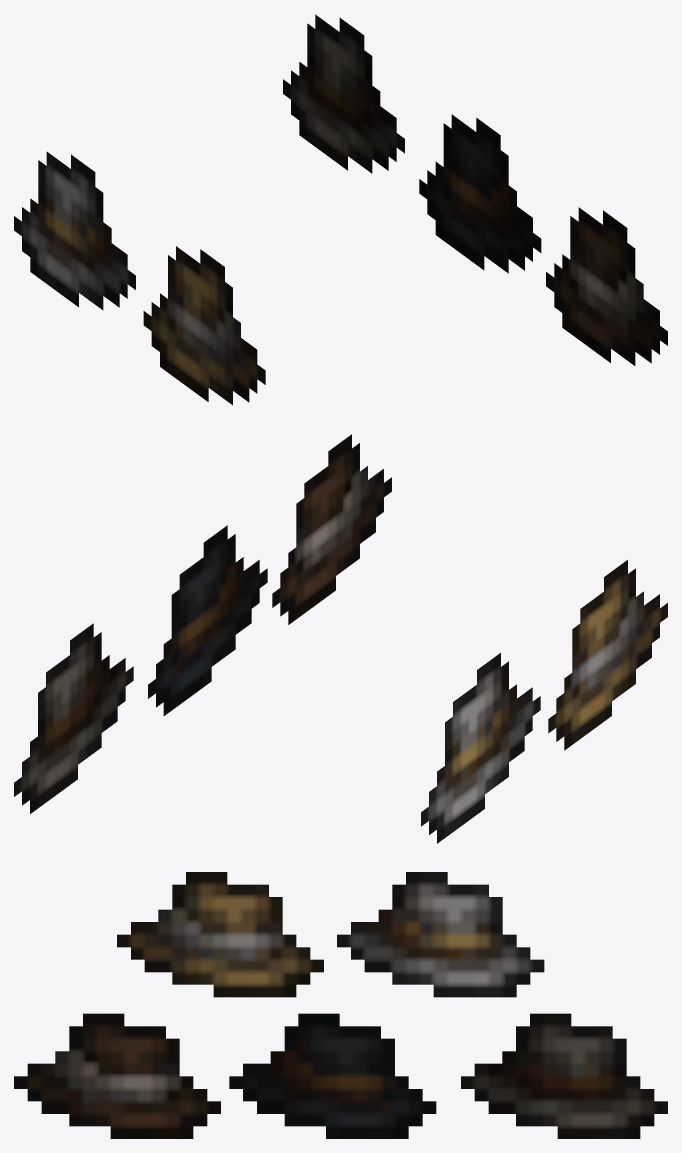
The model's file is EnvObjMD_Hat_A_Black.FBX.
3 renders of one model, top to bottom at view 1: azimuth 30°, elevation 25°; view 2: azimuth 150°, elevation 25°; view 3: azimuth 270°, elevation 25°, orthographic. The views are drawn at different scales.
Visible parts, largest first — view 1: EnvObjMD_Hat_A_Black, EnvObjMD_Hat_A_Gray, EnvObjMD_Hat_A_White, EnvObjMD_Hat_A_Brown, EnvObjMD_Hat_A_Yellow; view 2: EnvObjMD_Hat_A_Black, EnvObjMD_Hat_A_Brown, EnvObjMD_Hat_A_Gray, EnvObjMD_Hat_A_Yellow, EnvObjMD_Hat_A_White; view 3: EnvObjMD_Hat_A_White, EnvObjMD_Hat_A_Yellow, EnvObjMD_Hat_A_Brown, EnvObjMD_Hat_A_Gray, EnvObjMD_Hat_A_Black.
Boxes of the visible parts, x1,y1,x2,y2 form: EnvObjMD_Hat_A_Black: (419, 114, 541, 273); EnvObjMD_Hat_A_Gray: (283, 14, 404, 173); EnvObjMD_Hat_A_White: (14, 151, 135, 310); EnvObjMD_Hat_A_Brown: (546, 207, 667, 365); EnvObjMD_Hat_A_Yellow: (143, 246, 265, 405); EnvObjMD_Hat_A_Black: (148, 525, 267, 715); EnvObjMD_Hat_A_Brown: (272, 434, 391, 624); EnvObjMD_Hat_A_Gray: (14, 623, 133, 813); EnvObjMD_Hat_A_Yellow: (548, 560, 667, 750); EnvObjMD_Hat_A_White: (421, 653, 540, 843); EnvObjMD_Hat_A_White: (337, 872, 544, 997); EnvObjMD_Hat_A_Yellow: (117, 872, 323, 997); EnvObjMD_Hat_A_Brown: (14, 1013, 220, 1138); EnvObjMD_Hat_A_Gray: (461, 1013, 667, 1138); EnvObjMD_Hat_A_Black: (229, 1013, 436, 1138).
Size of the model in its own units: 121 by 50 by 237.
1 material, 1 textured.
